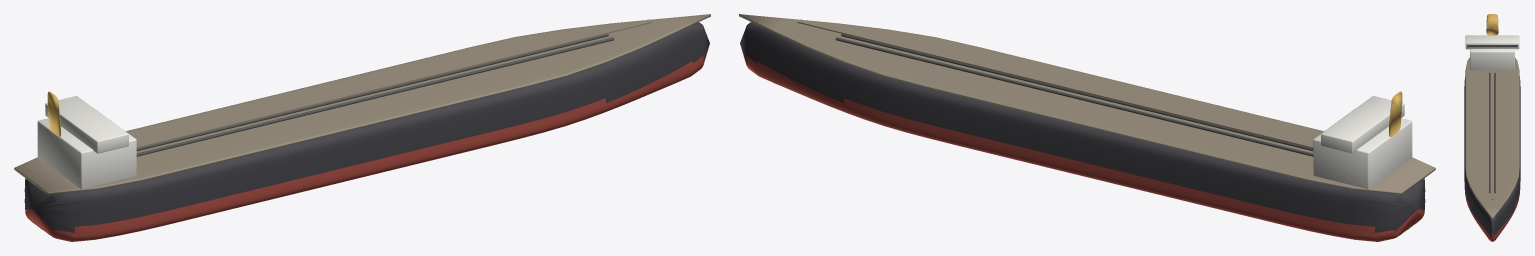
Rendered from tanker.glb.
3 renders of one model, left to right at view 1: azimuth 30°, elevation 25°; view 2: azimuth 150°, elevation 25°; view 3: azimuth 270°, elevation 25°, orthographic. The views are drawn at different scales.
Visible parts, largest first — view 1: ship; view 2: ship; view 3: ship.
Boxes of the visible parts, <box> form: ship: <box>14,14,710,241</box>; ship: <box>739,14,1435,241</box>; ship: <box>1464,14,1520,241</box>.
Bounding box in the file's own units: 170 × 32.89 × 23.96.
